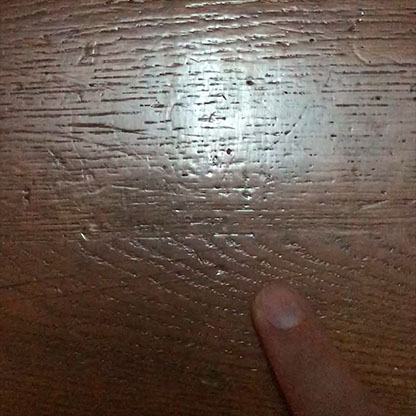fingertip: (241, 262, 322, 346)
